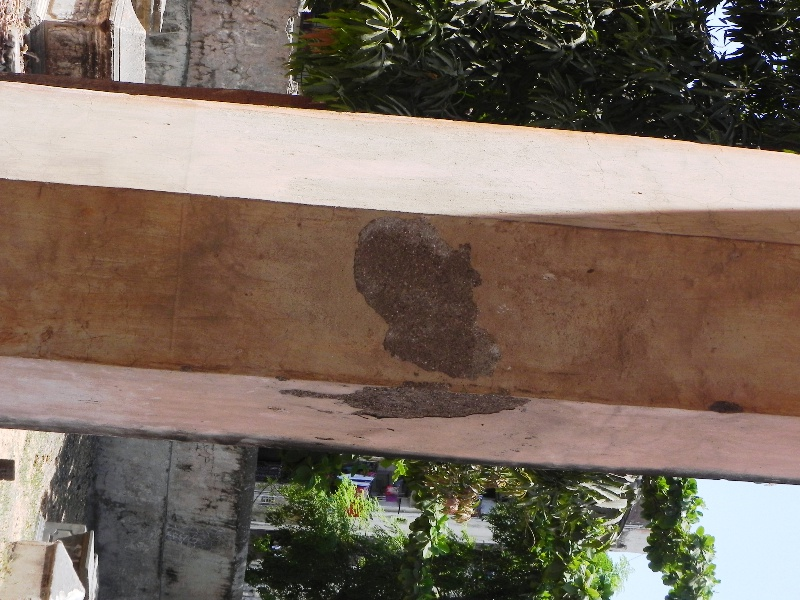Spalling: (348, 208, 510, 387), (273, 381, 538, 421), (706, 395, 749, 419)
